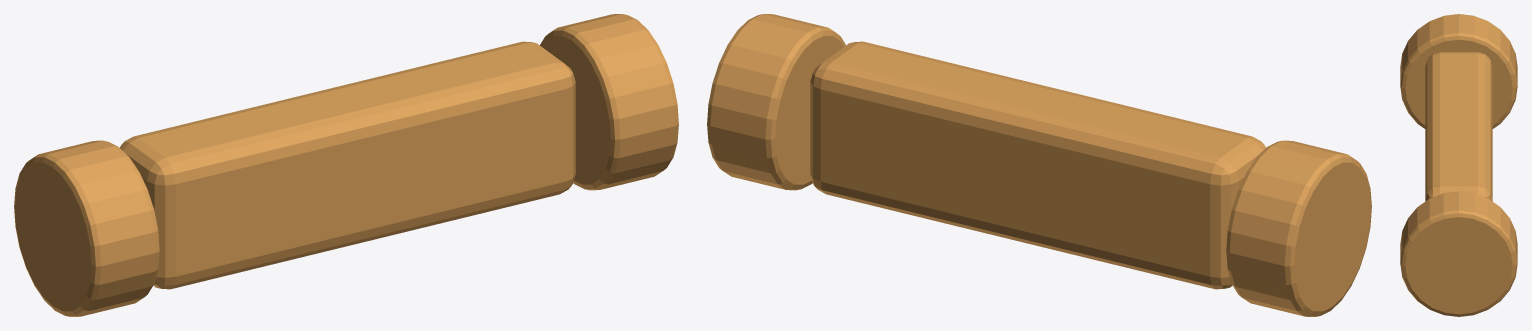
The model's file is crank.glb.
3 views of the same model, side by side, from view 1: azimuth 30°, elevation 25°; view 2: azimuth 150°, elevation 25°; view 3: azimuth 270°, elevation 25° (orthographic). The views are drawn at different scales.
Visible parts, largest first — view 1: crank_link, pivot_a_collar, pivot_b_collar; view 2: crank_link, pivot_a_collar, pivot_b_collar; view 3: pivot_b_collar, crank_link, pivot_a_collar.
Part boxes in pixels (x1=…): crank_link: x1=120, y1=41, x2=575, y2=289; pivot_a_collar: x1=14, y1=140, x2=159, y2=316; pivot_b_collar: x1=540, y1=14, x2=678, y2=190; crank_link: x1=810, y1=41, x2=1265, y2=289; pivot_a_collar: x1=1226, y1=140, x2=1371, y2=316; pivot_b_collar: x1=707, y1=14, x2=845, y2=190; pivot_b_collar: x1=1400, y1=191, x2=1517, y2=316; crank_link: x1=1425, y1=52, x2=1492, y2=201; pivot_a_collar: x1=1400, y1=14, x2=1517, y2=128.
Size of the model in its own units: 1.13 by 0.28 by 0.28.
